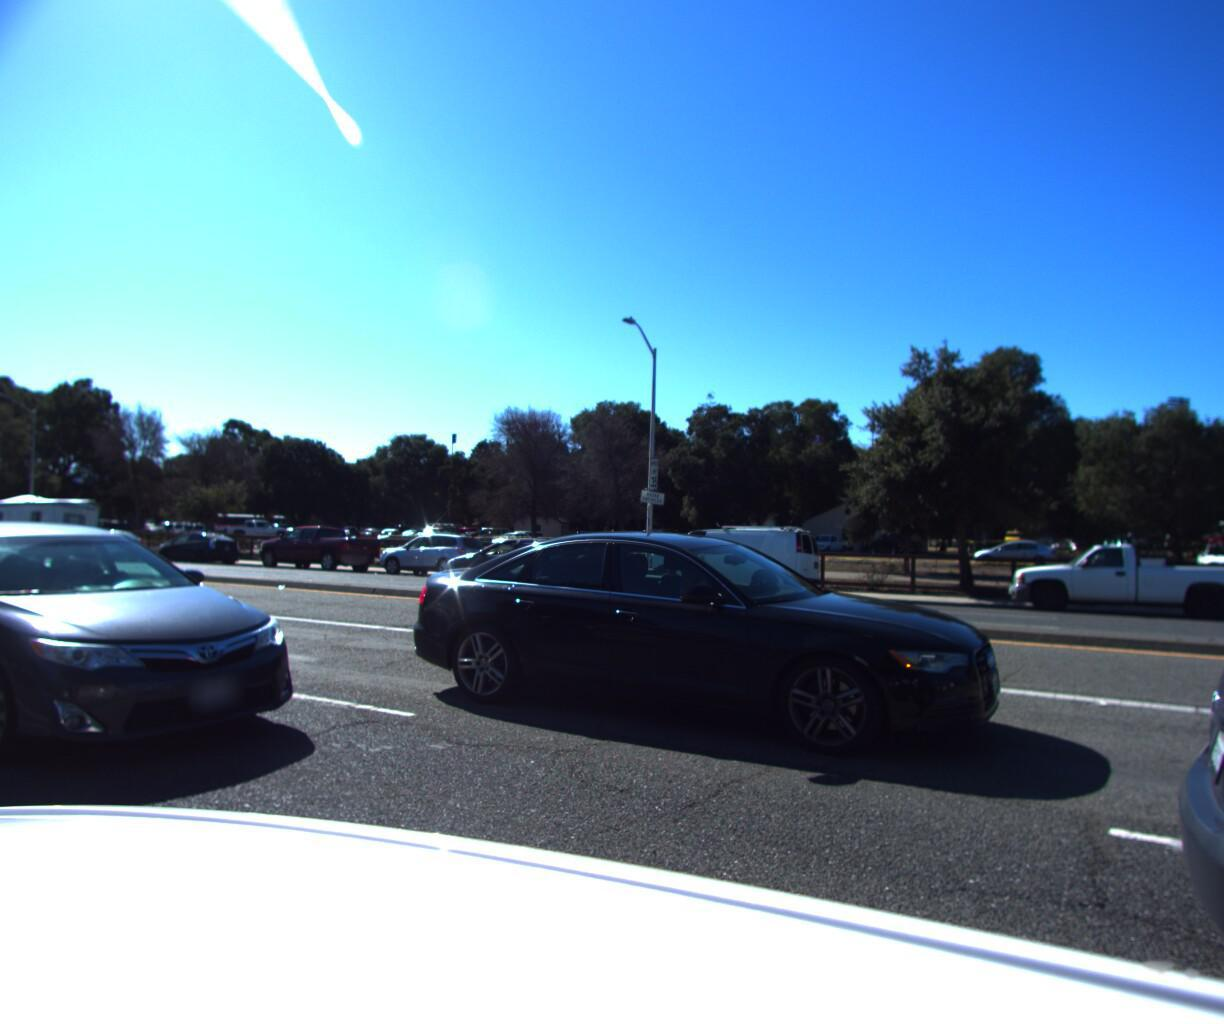car: (368, 522, 982, 772), (0, 521, 319, 792), (999, 536, 1224, 630), (431, 535, 613, 599), (246, 525, 383, 577), (367, 531, 496, 582), (147, 532, 244, 570), (61, 531, 152, 564)
other_vehicle: (636, 524, 828, 600), (0, 498, 100, 563), (0, 495, 7, 556)
